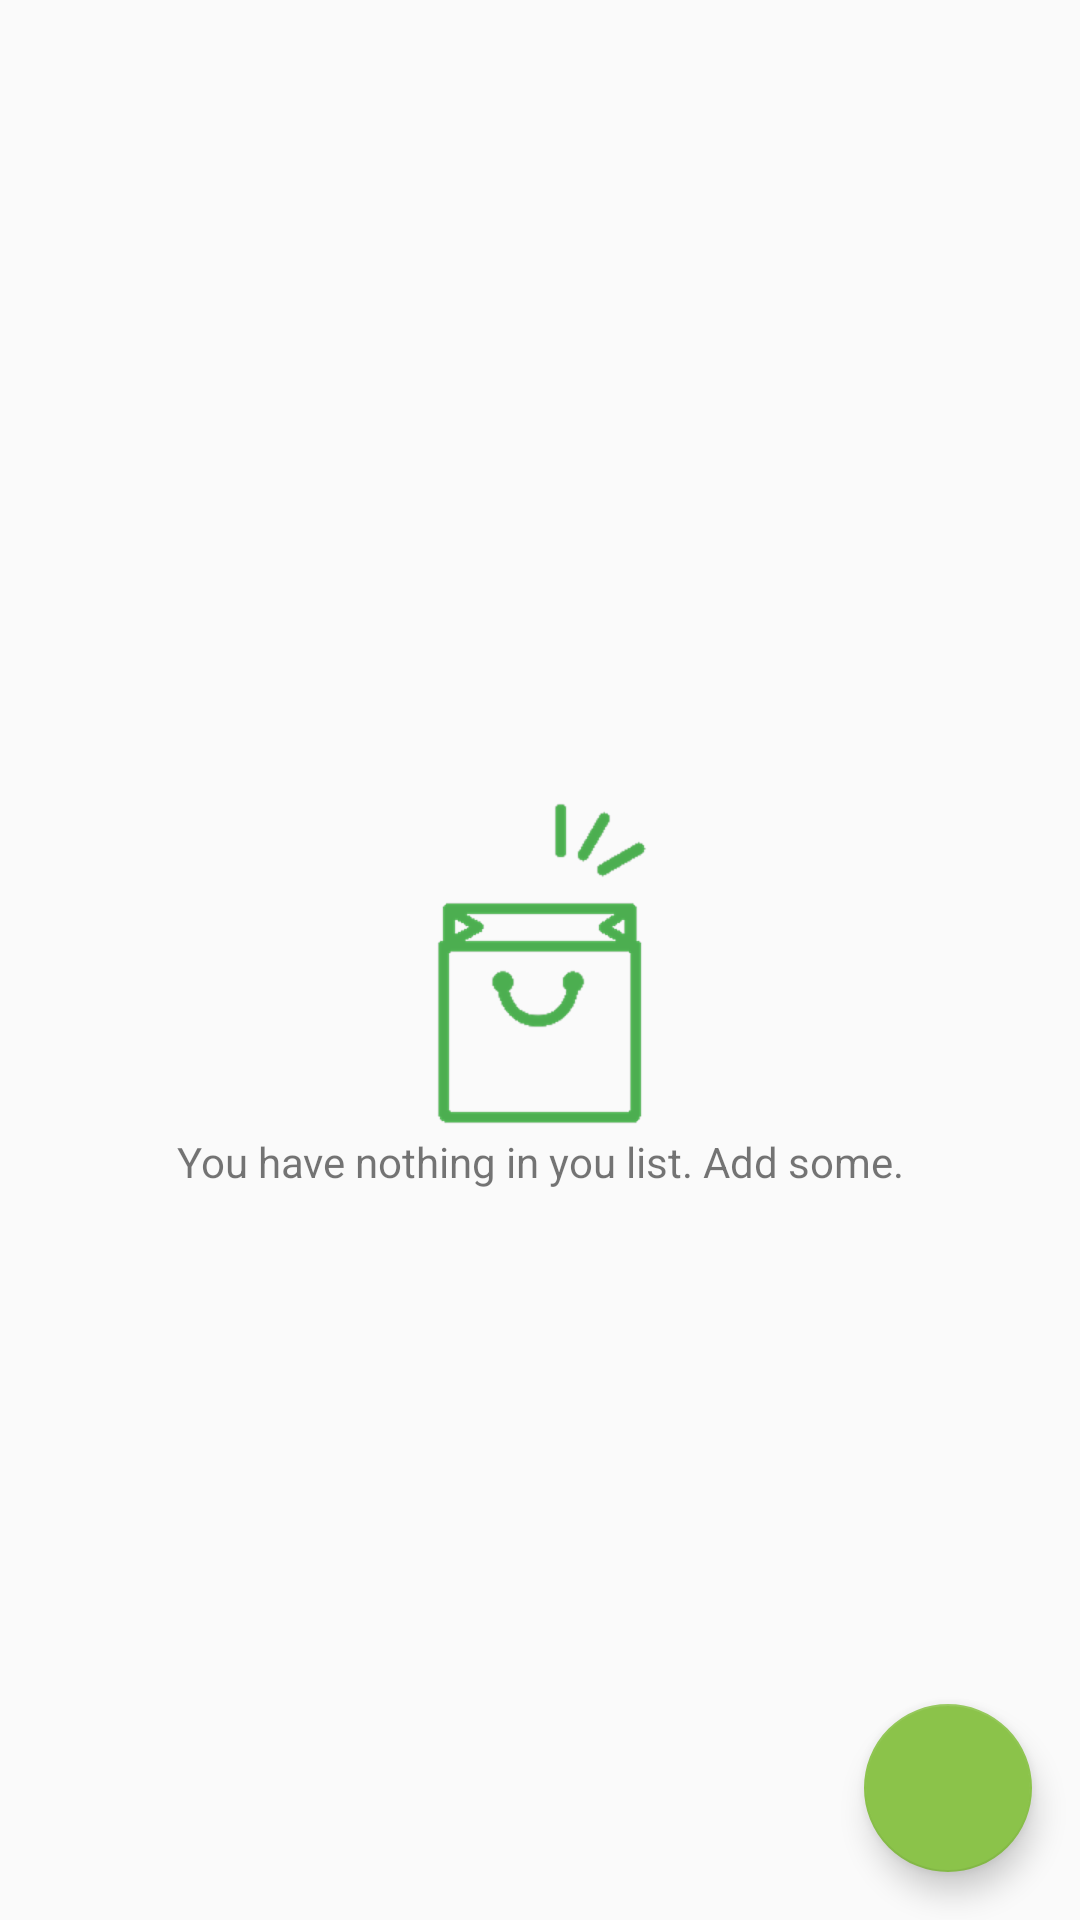

Screen size 1080px x 1920px. Icon name, then its center in pixels as point (x, y):
empty bag: point (542, 963)
